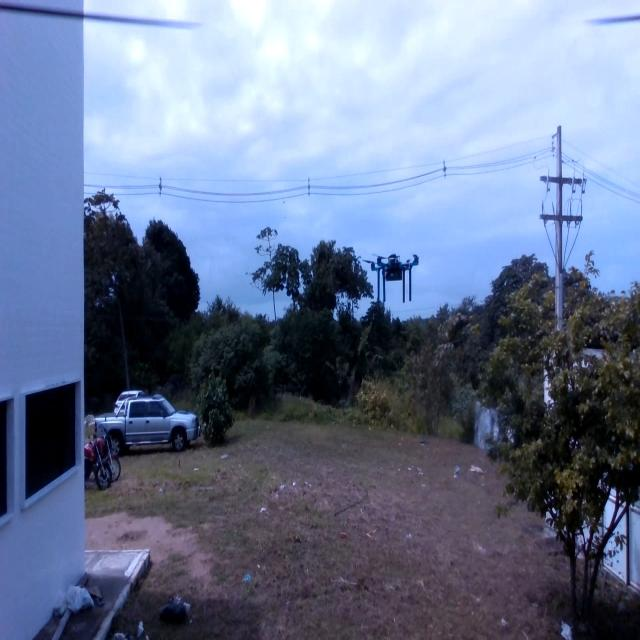-uav-: (365, 231, 423, 323)
